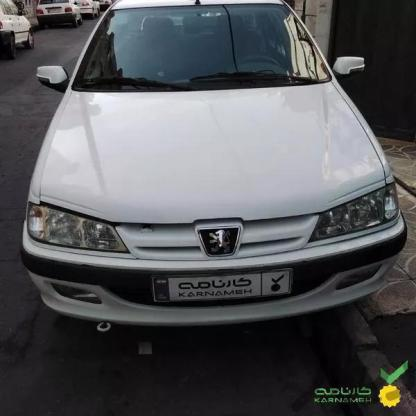Car: (26, 0, 416, 365), (0, 0, 62, 82), (35, 0, 103, 24)
